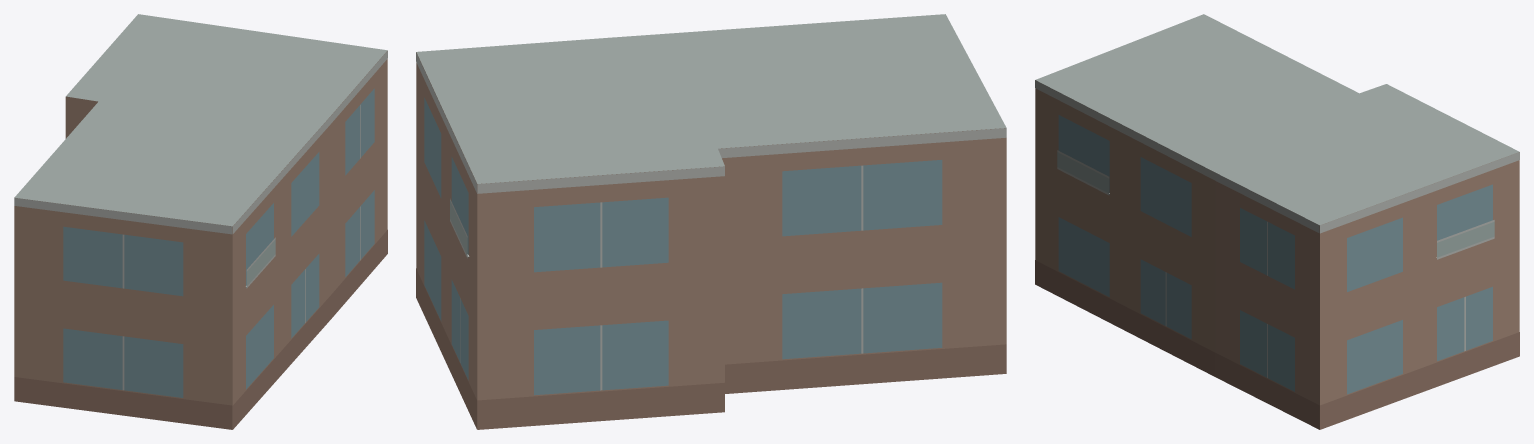
Rendered from survey-upis-32771630.glb.
The picture shows the model from 3 angles, left to right: view 1: azimuth 30°, elevation 25°; view 2: azimuth 150°, elevation 25°; view 3: azimuth 270°, elevation 25°; orthographic projection. The views are drawn at different scales.
Visible parts, largest first — view 1: survey-upis-32771630.tmp; view 2: survey-upis-32771630.tmp; view 3: survey-upis-32771630.tmp.
Boxes of the visible parts, left/top/right/bottom form: survey-upis-32771630.tmp: left=14, top=14, right=387, bottom=429; survey-upis-32771630.tmp: left=416, top=14, right=1006, bottom=429; survey-upis-32771630.tmp: left=1035, top=14, right=1519, bottom=429.
Bounding box in the file's own units: 13.53 × 6.1 × 13.11.
